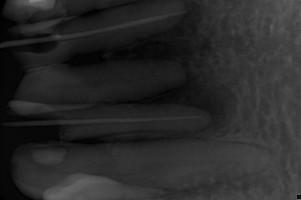Dental Caries: (102, 0, 239, 139)
